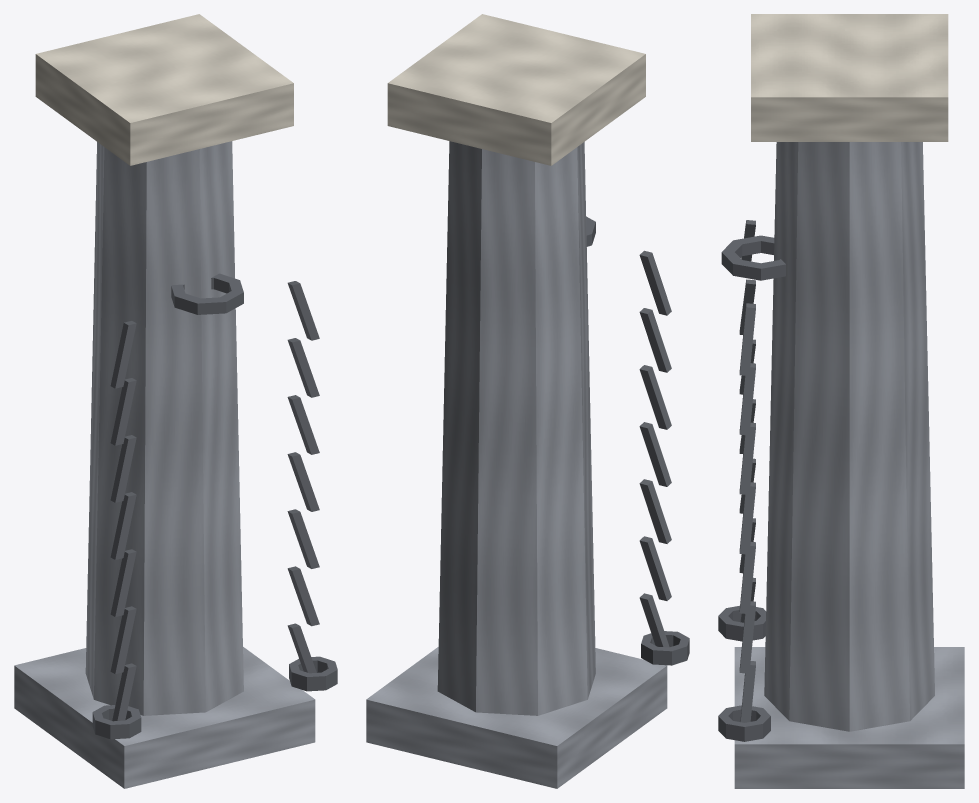
The picture shows the model from 3 angles, left to right: view 1: azimuth 30°, elevation 25°; view 2: azimuth 150°, elevation 25°; view 3: azimuth 270°, elevation 25°; orthographic projection. The views are drawn at different scales.
Parts seen in each view (by area): view 1: chained-servant-post; view 2: chained-servant-post; view 3: chained-servant-post.
Boxes of the visible parts, x1,y1,x2,y2 form: chained-servant-post: [14, 14, 337, 788]; chained-servant-post: [366, 14, 689, 788]; chained-servant-post: [718, 14, 964, 788].
Size of the model in its own units: 0.8799 by 2.3 by 0.75.
Materials: 3 (2 with a texture image).
